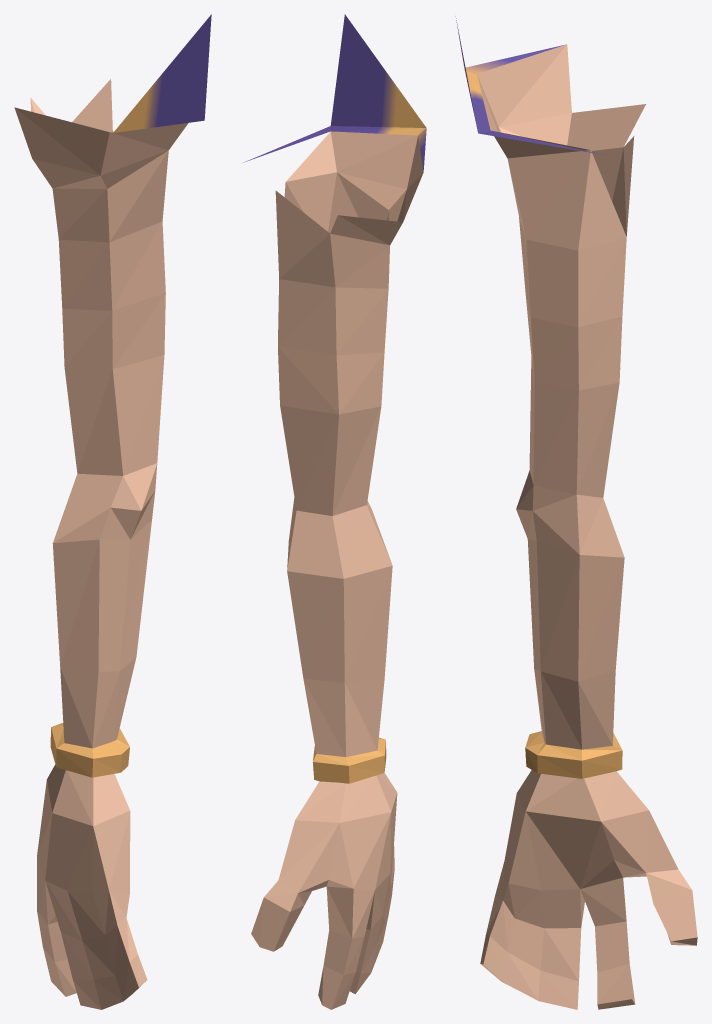
Rendered from ArmL.obj.
The picture shows the model from 3 angles, left to right: view 1: azimuth 30°, elevation 25°; view 2: azimuth 150°, elevation 25°; view 3: azimuth 270°, elevation 25°; orthographic projection. The views are drawn at different scales.
Size of the model in its own units: 0.1784 by 0.9514 by 0.2028.
Materials: 1 (1 with a texture image).
